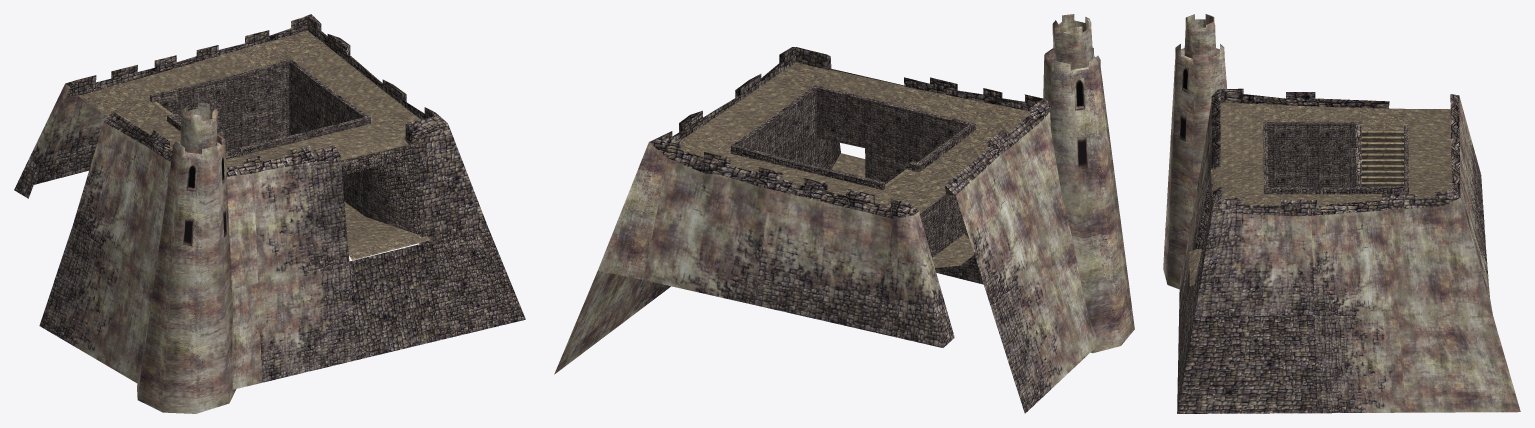
The model's file is pir_m_bld_frt_kingsheadSmall.fbx.
3 views of the same model, side by side, from view 1: azimuth 30°, elevation 25°; view 2: azimuth 150°, elevation 25°; view 3: azimuth 270°, elevation 25° (orthographic). The views are drawn at different scales.
Visible parts, largest first — view 1: exterior_walls2, large_tower7, floor, ground; view 2: exterior_walls2, large_tower7, floor, ground; view 3: exterior_walls2, floor, large_tower7, stairs, ground.
Part boxes in pixels (x1,y1,x2,y2): exterior_walls2: [14, 14, 525, 389]; large_tower7: [137, 102, 236, 413]; floor: [78, 31, 420, 167]; ground: [344, 202, 429, 260]; exterior_walls2: [554, 47, 1098, 413]; large_tower7: [1043, 14, 1134, 353]; floor: [679, 62, 1030, 213]; ground: [831, 153, 974, 267]; exterior_walls2: [1177, 88, 1520, 413]; floor: [1212, 102, 1451, 205]; large_tower7: [1163, 14, 1226, 289]; stairs: [1361, 130, 1403, 186]; ground: [1189, 249, 1201, 286].
Bounding box in the file's own units: 13759 × 10062 × 12530.
Materials: 5 (5 with a texture image).
